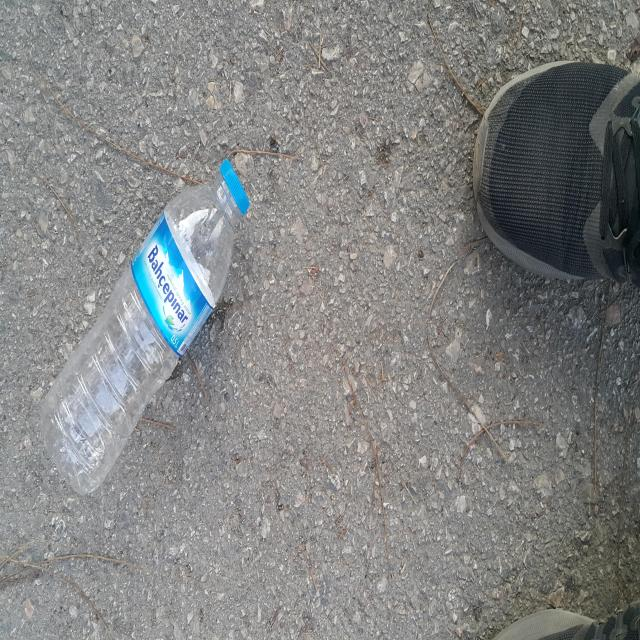plastic: (38, 156, 250, 494)
